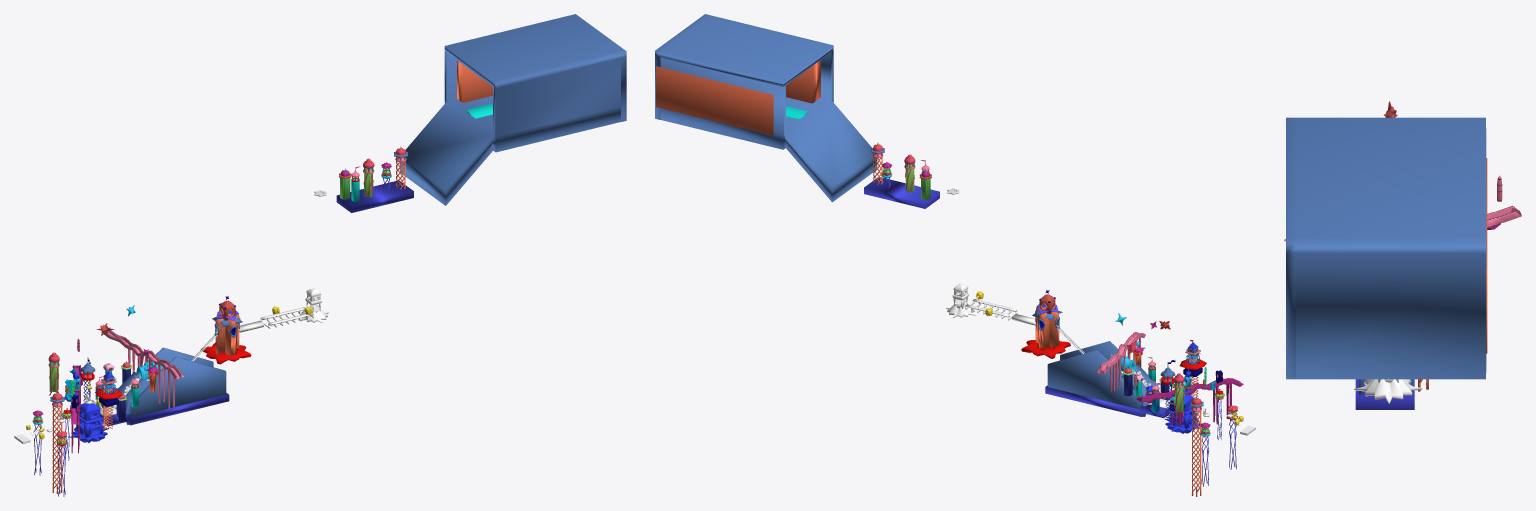
File: RaceCourse.fbx
The picture shows the model from 3 angles, left to right: view 1: azimuth 30°, elevation 25°; view 2: azimuth 150°, elevation 25°; view 3: azimuth 270°, elevation 25°; orthographic projection. The views are drawn at different scales.
Parts seen in each view (by area): view 1: Cube.138, Plane.014, Circle.001, Cube.010, Plane.017, Cube.050, Cube.142, Plane.002, Circle.016; view 2: Cube.138, Cube.142, Plane.014, Circle.001, Plane.017, Cube.018, Cube.010, Circle.016, Plane.002; view 3: Cube.138, Cube.051, Plane.002, Cube.010, Cube.142.
Boxes of the visible parts, bbox=[...] form: Cube.138: bbox=[399, 14, 626, 205]; Plane.014: bbox=[126, 347, 226, 424]; Circle.001: bbox=[190, 296, 251, 364]; Cube.010: bbox=[101, 330, 183, 408]; Plane.017: bbox=[336, 180, 413, 212]; Cube.050: bbox=[69, 403, 109, 442]; Cube.142: bbox=[457, 61, 492, 102]; Plane.002: bbox=[126, 393, 229, 425]; Circle.016: bbox=[50, 391, 64, 493]; Cube.138: bbox=[655, 14, 877, 202]; Cube.142: bbox=[656, 60, 820, 135]; Plane.014: bbox=[1047, 341, 1145, 416]; Circle.001: bbox=[1021, 290, 1084, 358]; Plane.017: bbox=[864, 177, 939, 208]; Cube.018: bbox=[1136, 378, 1243, 425]; Cube.010: bbox=[1097, 332, 1145, 391]; Circle.016: bbox=[1189, 396, 1203, 496]; Plane.002: bbox=[1045, 385, 1145, 416]; Cube.138: bbox=[1286, 117, 1486, 379]; Cube.051: bbox=[1354, 379, 1422, 403]; Plane.002: bbox=[1355, 379, 1414, 409]; Cube.010: bbox=[1284, 205, 1521, 241]; Cube.142: bbox=[1486, 158, 1487, 353].
Size of the model in its own units: 11766 by 6460 by 2121.
